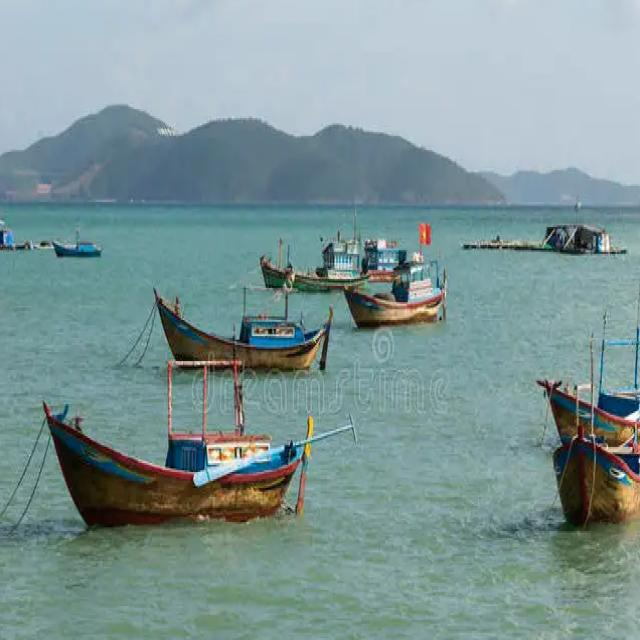fishing boat: (47, 354, 317, 530), (150, 268, 332, 374), (537, 318, 640, 434), (549, 417, 640, 522), (346, 258, 443, 330), (264, 232, 359, 294), (359, 231, 413, 286), (52, 216, 102, 258)
